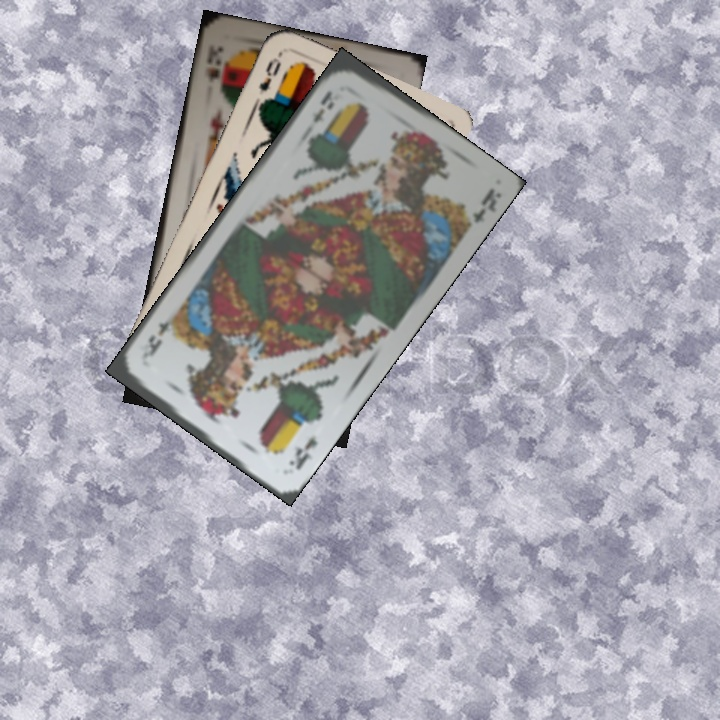EK: (285, 431, 320, 473), (308, 87, 337, 126)
EO: (254, 49, 285, 96)
SK: (202, 40, 226, 86)
